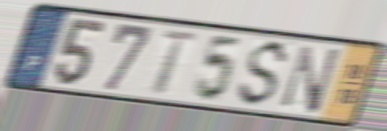5: (52, 15, 109, 89), (190, 33, 246, 103)
7: (104, 20, 156, 93)
N: (279, 43, 344, 116)
S: (234, 38, 294, 110)
T: (150, 28, 199, 98)
